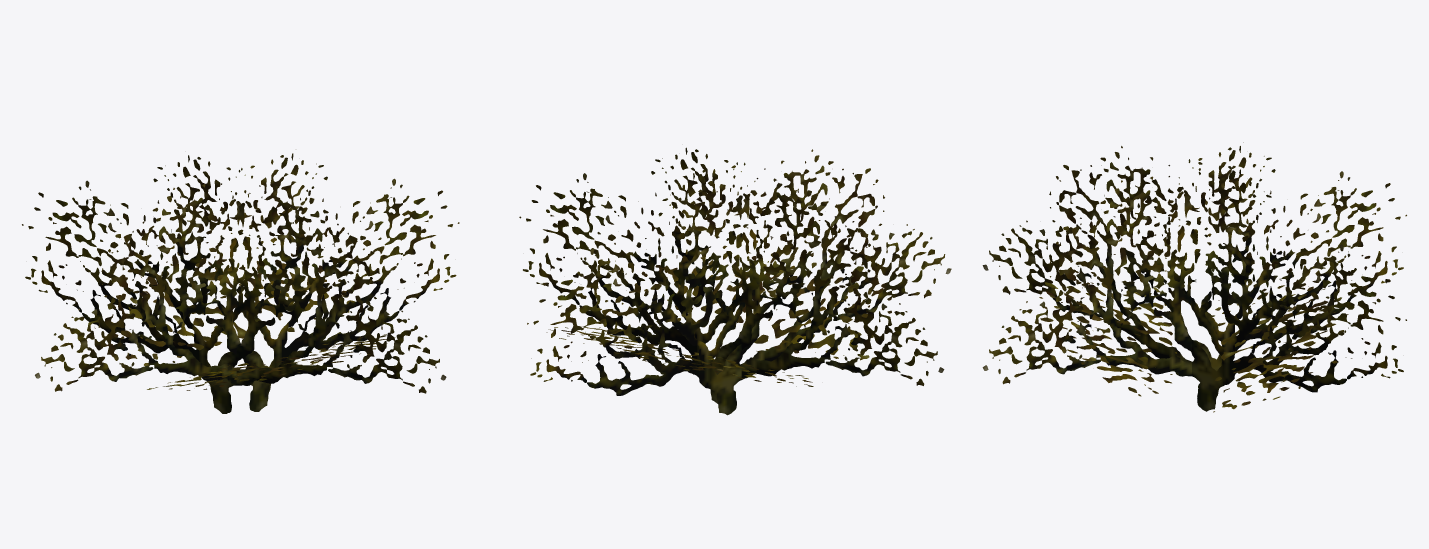
The model's file is M6_Shrub1.glb.
3 renders of one model, left to right at view 1: azimuth 30°, elevation 25°; view 2: azimuth 150°, elevation 25°; view 3: azimuth 270°, elevation 25°, orthographic.
Parts seen in each view (by area): view 1: M6_SHRUB1; view 2: M6_SHRUB1; view 3: M6_SHRUB1.
Boxes of the visible parts, box(x1,y1,x2,y2) form: M6_SHRUB1: box(22, 153, 459, 413); M6_SHRUB1: box(519, 147, 951, 415); M6_SHRUB1: box(982, 142, 1406, 412).
Bounding box in the file's own units: 2.01 × 1.37 × 1.74.
1 material, 1 textured.
